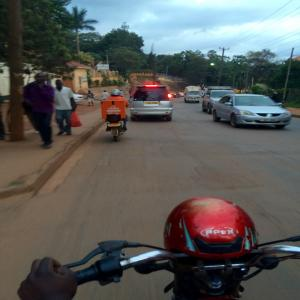Vehicle-registration-plate: (145, 103, 160, 106)
